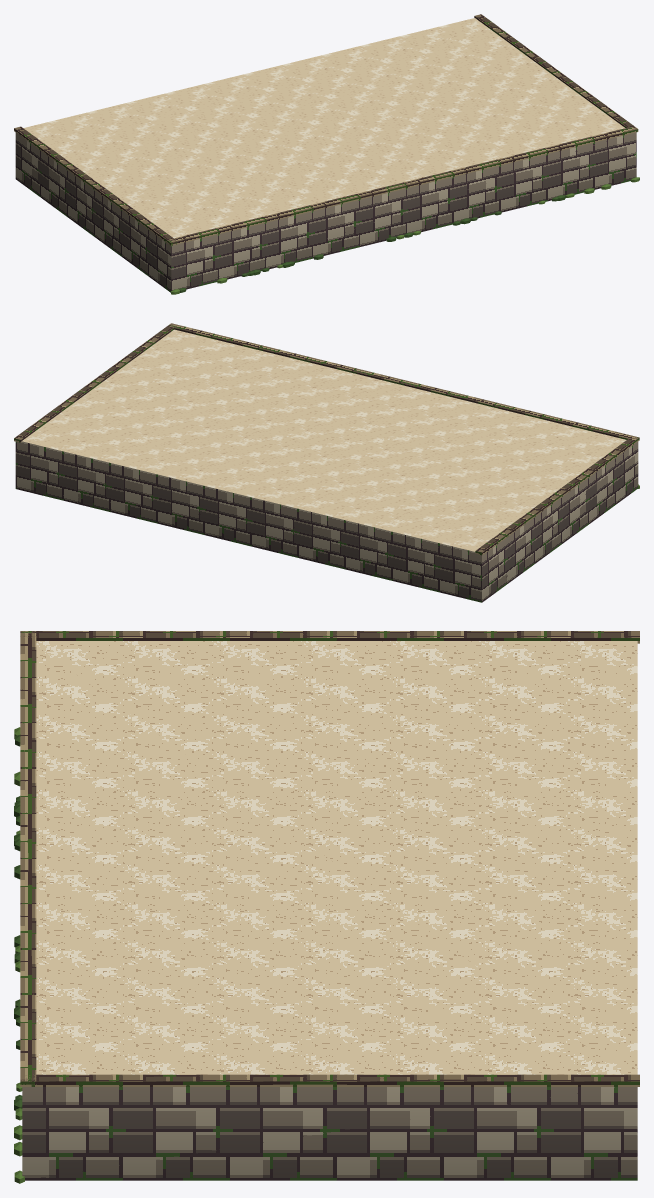
Rendered from scene_plat_c4.glb.
3 renders of one model, top to bottom at view 1: azimuth 30°, elevation 25°; view 2: azimuth 150°, elevation 25°; view 3: azimuth 270°, elevation 25°, orthographic. The views are drawn at different scales.
Visible parts, largest first — view 1: scene_plat_c4; view 2: scene_plat_c4; view 3: scene_plat_c4.
Boxes of the visible parts, x1,y1,x2,y2 form: scene_plat_c4: (14, 14, 639, 294); scene_plat_c4: (14, 323, 639, 602); scene_plat_c4: (14, 631, 639, 1183).
Bounding box in the file's own units: 23.99 × 2.57 × 14.04.
3 materials, 2 textured.
